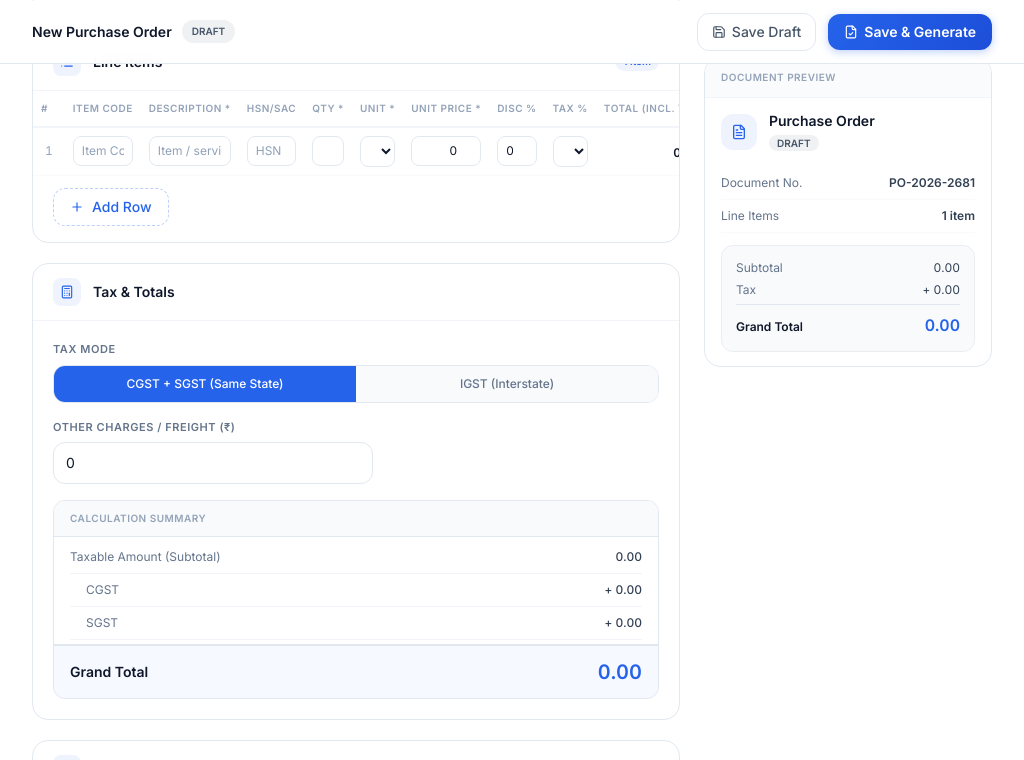
Scenario: PurchaseOrderPage › switches the tax mode to IGST
The width and height of the screenshot is (1024, 760).
(page scrolled)
Expected: the text "CGST" is shown, [86, 582, 119, 598]
Expected: the text "SGST" is shown, [86, 614, 118, 630]
Click the radio button labelled "IGST (Interstate)": click(507, 384) [356, 366, 658, 402]
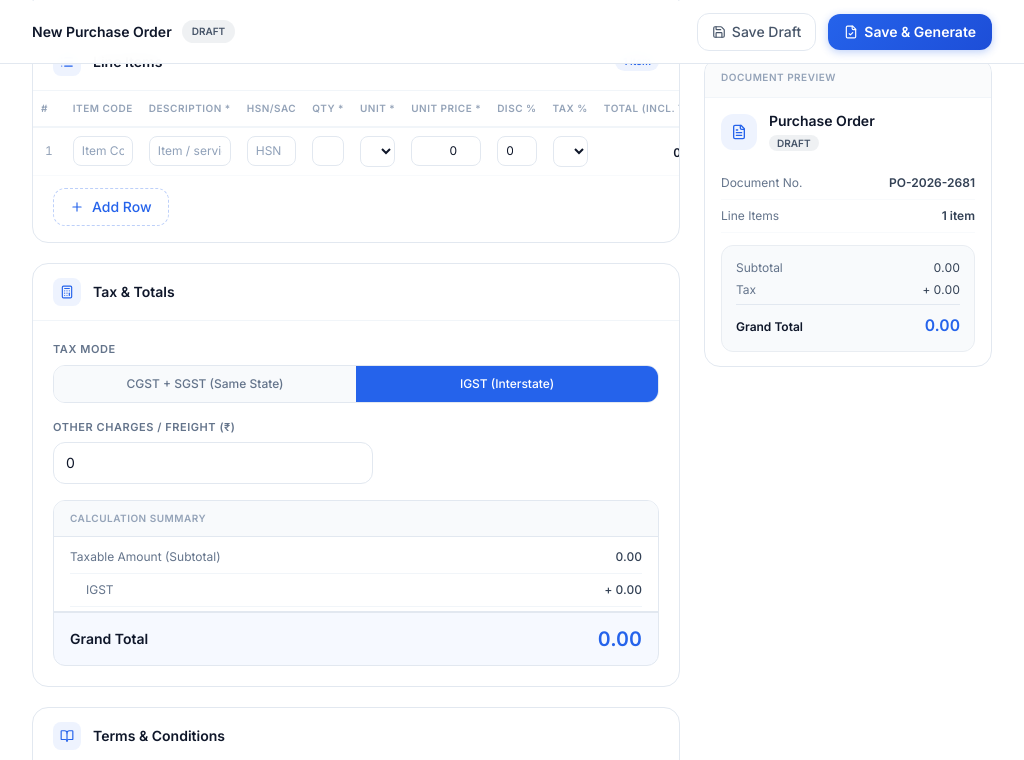
Expected: the radio button labelled "IGST (Interstate)" is checked, [356, 366, 658, 402]
Expected: the text "IGST" is shown, [86, 582, 114, 598]
